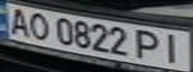0: (51, 15, 75, 46)
2: (109, 24, 133, 57), (90, 21, 112, 54)
8: (69, 19, 93, 51)
A: (3, 4, 33, 37)
I: (157, 30, 190, 64)
O: (24, 10, 54, 40)
P: (133, 27, 166, 62)
